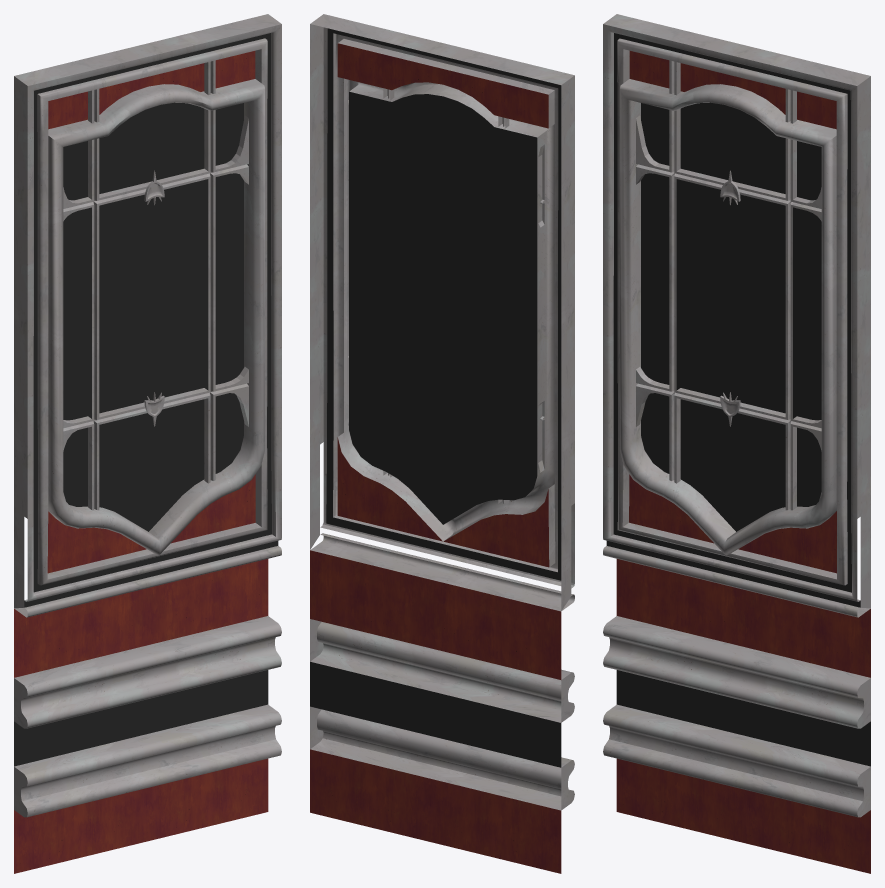
The model's file is SM_LowPoly_Pristine_Wall_03.fbx.
3 views of the same model, side by side, from view 1: azimuth 30°, elevation 25°; view 2: azimuth 150°, elevation 25°; view 3: azimuth 330°, elevation 25° (orthographic).
Parts seen in each view (by area): view 1: Wall_3; view 2: Wall_3; view 3: Wall_3.
Boxes of the visible parts, x1,y1,x2,y2 form: Wall_3: [14, 14, 281, 873]; Wall_3: [310, 14, 574, 873]; Wall_3: [603, 14, 870, 873].
Size of the model in its own units: 200 by 600 by 27.08.
